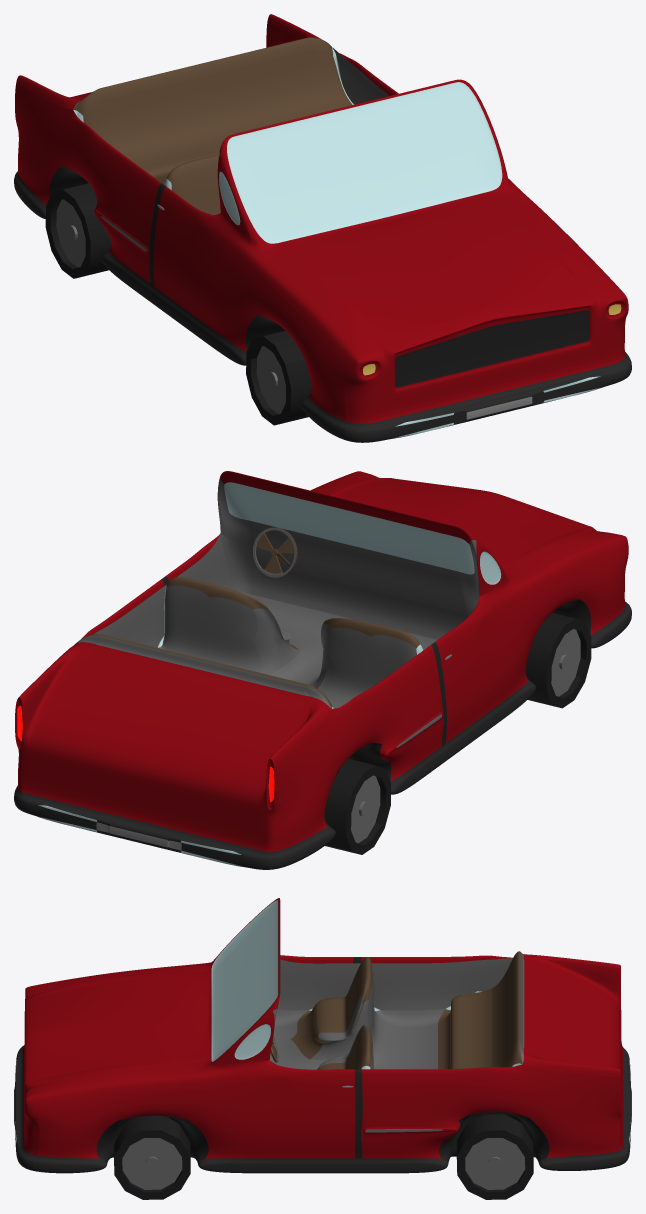
File: Car.fbx
3 renders of one model, top to bottom at view 1: azimuth 30°, elevation 25°; view 2: azimuth 150°, elevation 25°; view 3: azimuth 270°, elevation 25°, orthographic. The views are drawn at different scales.
Parts seen in each view (by area): view 1: Cube, Cylinder, Cylinder.001; view 2: Cube, Cylinder.001, Cylinder, Circle; view 3: Cube, Cylinder.001, Cylinder.
Part boxes in pixels (x1=…): Cube: x1=14, y1=14, x2=631, y2=442; Cylinder: x1=246, y1=330, x2=311, y2=425; Cylinder.001: x1=45, y1=183, x2=111, y2=278; Cube: x1=14, y1=471, x2=631, y2=869; Cylinder.001: x1=325, y1=758, x2=390, y2=854; Cylinder: x1=525, y1=613, x2=591, y2=708; Circle: x1=252, y1=527, x2=297, y2=577; Cube: x1=14, y1=898, x2=631, y2=1173; Cylinder.001: x1=456, y1=1114, x2=533, y2=1199; Cylinder: x1=114, y1=1116, x2=190, y2=1199.
Size of the model in its own units: 27.91 by 19.81 by 58.1.
